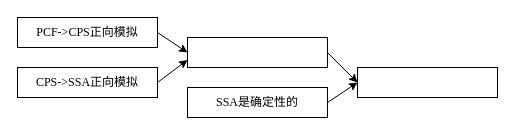
Some shapes in this 515 by 135 pixel diagram are drawn without their labels. Here are the shapes that lost their labels. From the top down, the centre of each, then its label:
the point at 257,52: PCF->SSA正向模拟
the point at 427,82: PCF->SSA反向模拟
